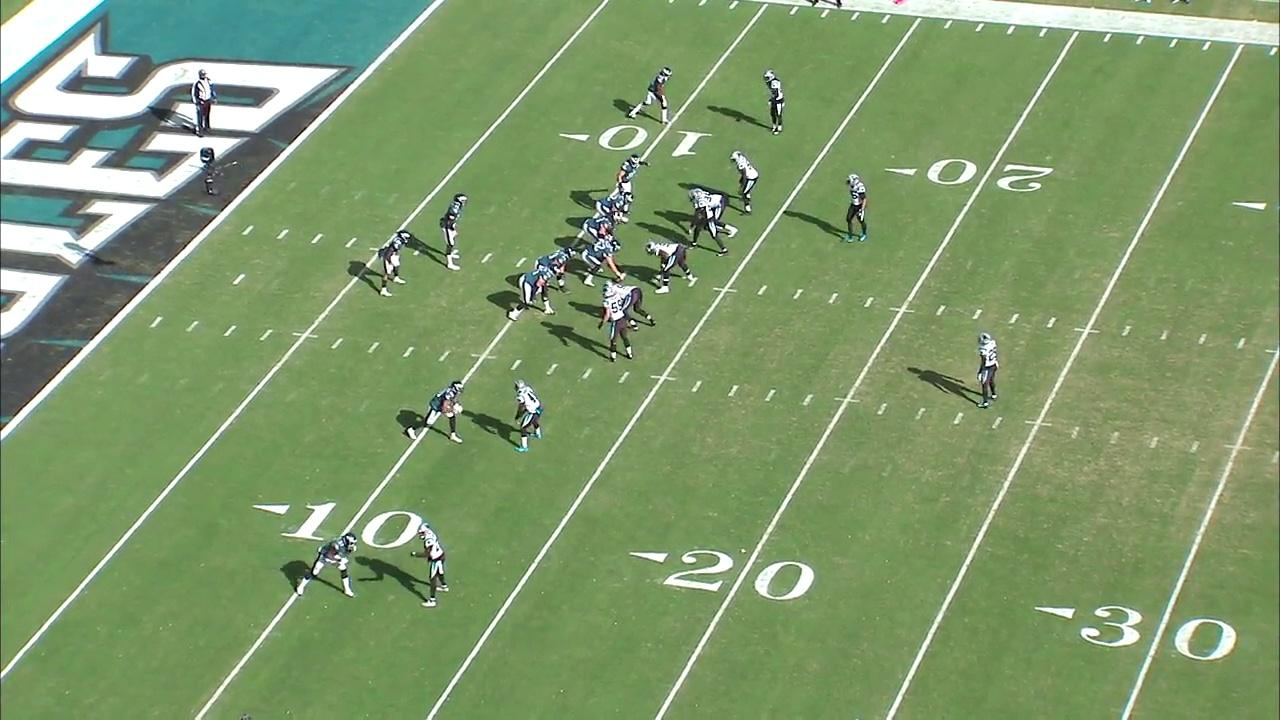defense: (407, 521, 454, 611), (687, 188, 731, 259), (596, 287, 635, 363), (602, 279, 657, 332), (644, 240, 695, 295), (686, 189, 740, 239), (512, 378, 544, 454), (729, 149, 761, 217), (843, 172, 871, 245), (974, 333, 1000, 409), (762, 68, 786, 137)
oline: (506, 262, 561, 323), (532, 245, 578, 296), (581, 239, 628, 287), (592, 191, 635, 224), (582, 211, 623, 243)
qb: (438, 192, 469, 272)
ref: (191, 69, 218, 138)
skill: (295, 530, 360, 601), (403, 378, 466, 446), (624, 64, 675, 126), (375, 228, 413, 300), (615, 153, 651, 215)
